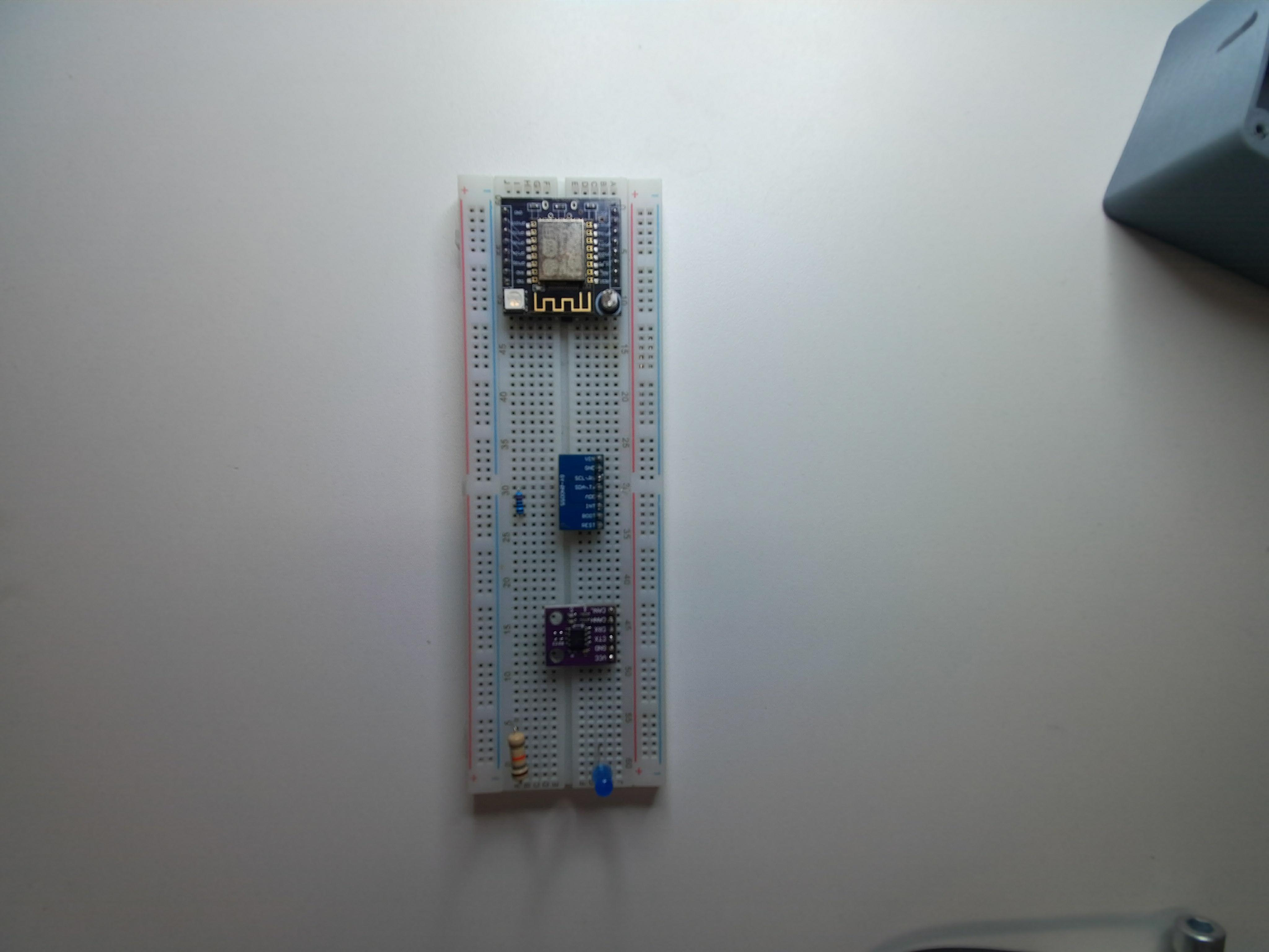base: (454, 173, 671, 814)
blue-board: (559, 451, 610, 538)
blue-led: (587, 760, 618, 801)
esp: (499, 194, 626, 324)
purple-board: (541, 603, 624, 678)
resistor-big: (505, 732, 530, 785)
resistor-small: (511, 491, 525, 521)
